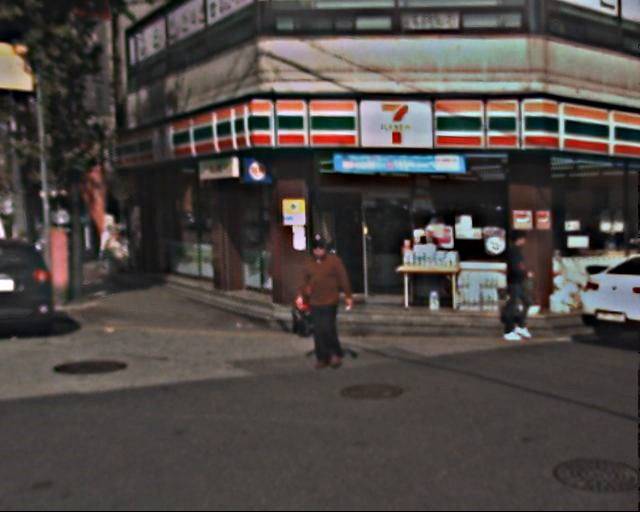person: (297, 239, 362, 370), (494, 229, 547, 343)
